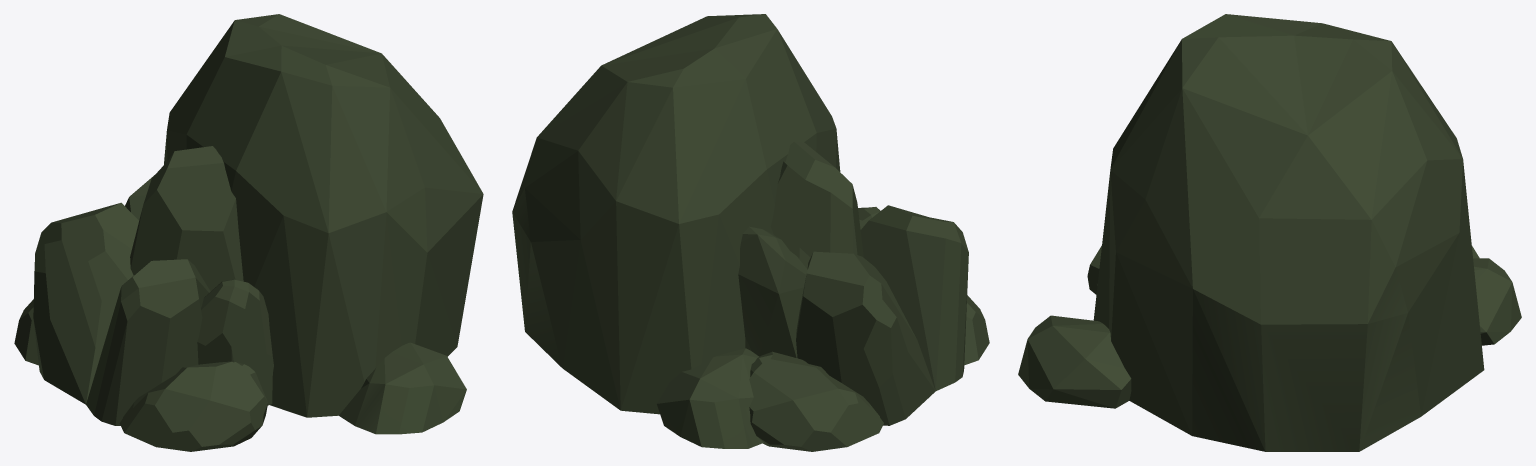
The model's file is EA_Swamp_Stones_01a.glb.
3 views of the same model, side by side, from view 1: azimuth 30°, elevation 25°; view 2: azimuth 150°, elevation 25°; view 3: azimuth 270°, elevation 25° (orthographic). The views are drawn at different scales.
Visible parts, largest first — view 1: EA_Swamp_Stones_01a; view 2: EA_Swamp_Stones_01a; view 3: EA_Swamp_Stones_01a.
Part boxes in pixels (x1,y1,x2,y2): EA_Swamp_Stones_01a: (14, 14, 483, 451); EA_Swamp_Stones_01a: (512, 14, 989, 451); EA_Swamp_Stones_01a: (1018, 14, 1521, 451).
Bounding box in the file's own units: 10.85 × 8.33 × 11.2.
1 material, 1 textured.
